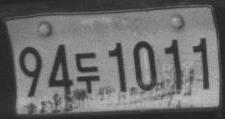0: (132, 40, 157, 91)
1: (106, 40, 132, 92), (162, 39, 188, 90), (190, 36, 214, 89)
4: (48, 44, 74, 97)
9: (18, 45, 43, 98)
두: (75, 51, 100, 93)
